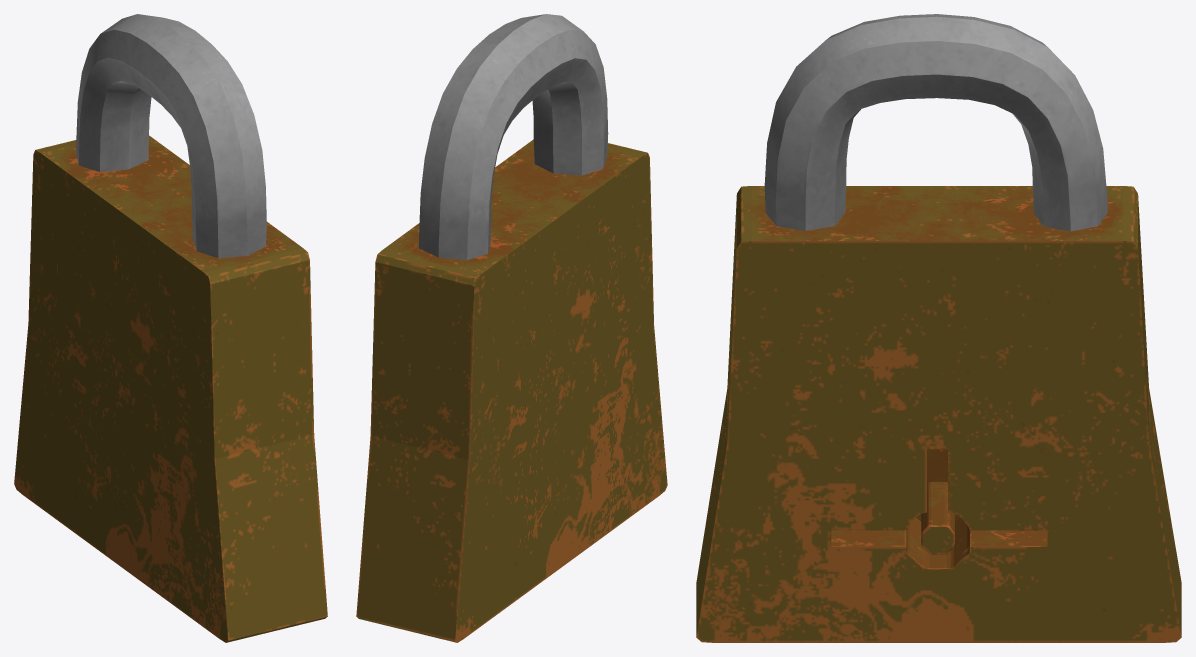
File: Cadeado_1.fbx
3 renders of one model, left to right at view 1: azimuth 30°, elevation 25°; view 2: azimuth 150°, elevation 25°; view 3: azimuth 270°, elevation 25°, orthographic. The views are drawn at different scales.
Visible parts, largest first — view 1: Cadeado_1, Cadeado_Ferro_1; view 2: Cadeado_1, Cadeado_Ferro_1; view 3: Cadeado_1, Cadeado_Ferro_1.
Part boxes in pixels (x1,y1,x2,y2): Cadeado_1: [14, 135, 327, 642]; Cadeado_Ferro_1: [76, 14, 266, 258]; Cadeado_1: [356, 139, 667, 642]; Cadeado_Ferro_1: [419, 14, 608, 260]; Cadeado_1: [696, 186, 1181, 642]; Cadeado_Ferro_1: [764, 14, 1107, 231].
Size of the model in its own units: 1.86 by 9.45 by 6.94.
